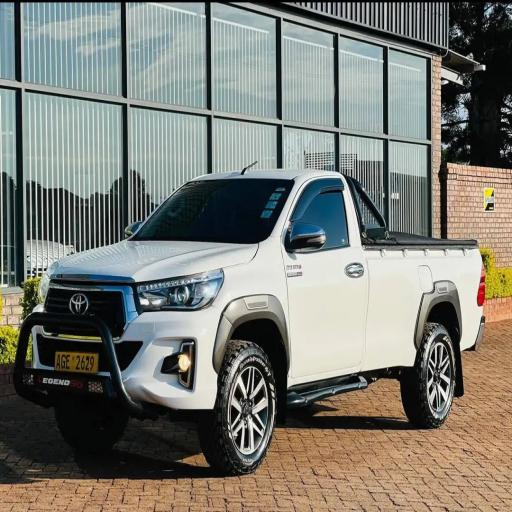number-plates: (55, 350, 99, 375)
